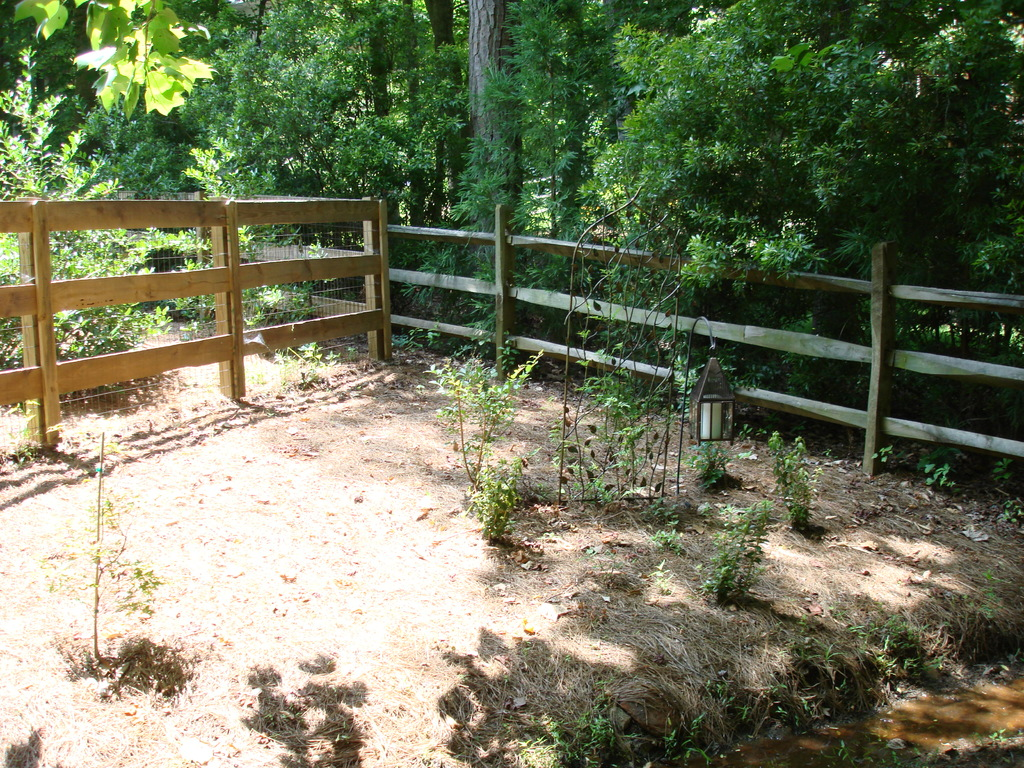Tree: (0, 0, 1023, 441)
